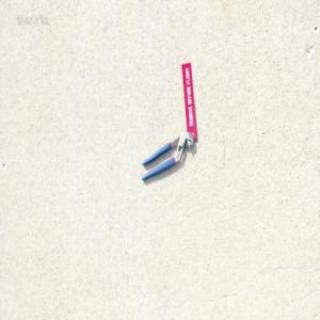LuggageTagtrack_idkeyframe: (178, 60, 196, 139)
Pliertrack_idkeyframe: (139, 129, 193, 181)
